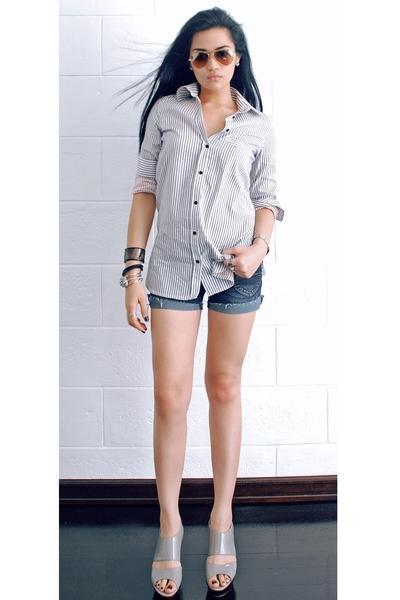shirt: (120, 85, 283, 304)
shoe: (152, 532, 236, 596)
shorts: (147, 263, 263, 314)
